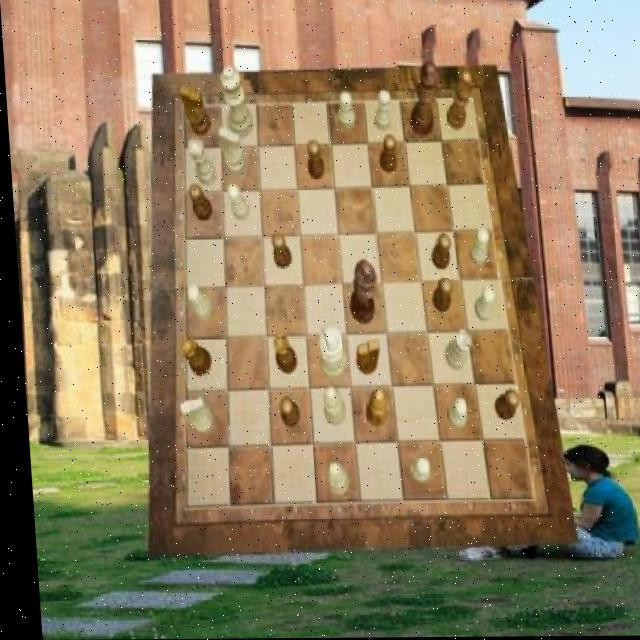bishop: (442, 73, 472, 131), (360, 389, 384, 429)
black-bishop: (343, 259, 376, 325)
black-king: (178, 86, 209, 137), (350, 340, 376, 374)
black-knight: (185, 185, 210, 221), (426, 277, 449, 314), (426, 234, 448, 271), (488, 391, 514, 422), (267, 234, 288, 270), (303, 141, 322, 180), (376, 135, 395, 173), (274, 397, 295, 428)
black-pawn: (405, 62, 441, 137)
black-queen: (175, 337, 207, 378), (267, 335, 292, 376)
black-rook: (317, 387, 341, 426), (318, 461, 343, 496)
white-bishop: (313, 326, 343, 381)
white-king: (174, 396, 209, 434), (216, 128, 243, 176)
white-knight: (182, 283, 208, 320), (464, 228, 487, 266), (224, 185, 247, 221), (372, 92, 392, 133), (470, 286, 492, 321), (440, 399, 463, 430), (334, 92, 353, 129), (403, 456, 424, 482)
white-pawn: (218, 66, 252, 137)
white-queen: (185, 139, 214, 185), (438, 331, 467, 372)
